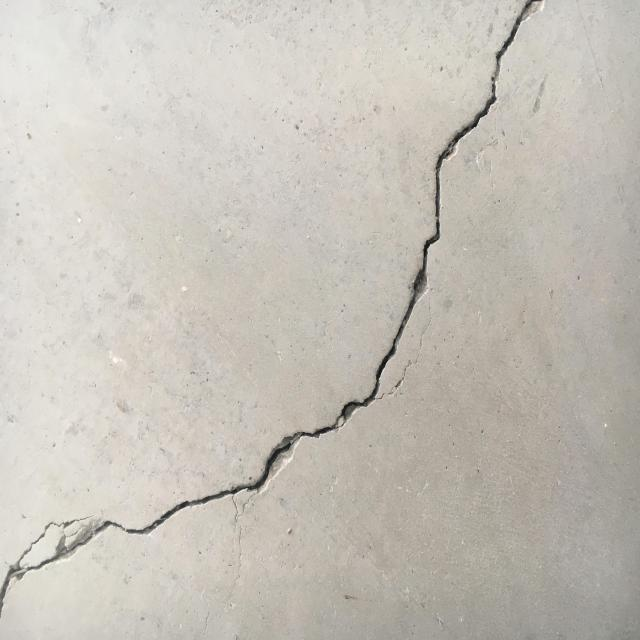Rachadura: (0, 0, 546, 628)
